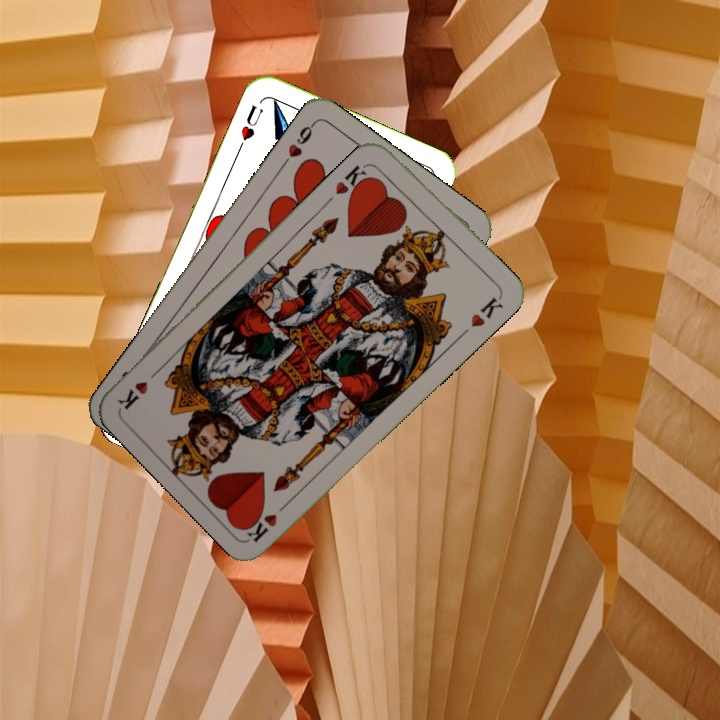H9: (277, 118, 318, 169)
HK: (241, 495, 294, 545), (331, 159, 375, 202)
HU: (234, 101, 266, 153)
